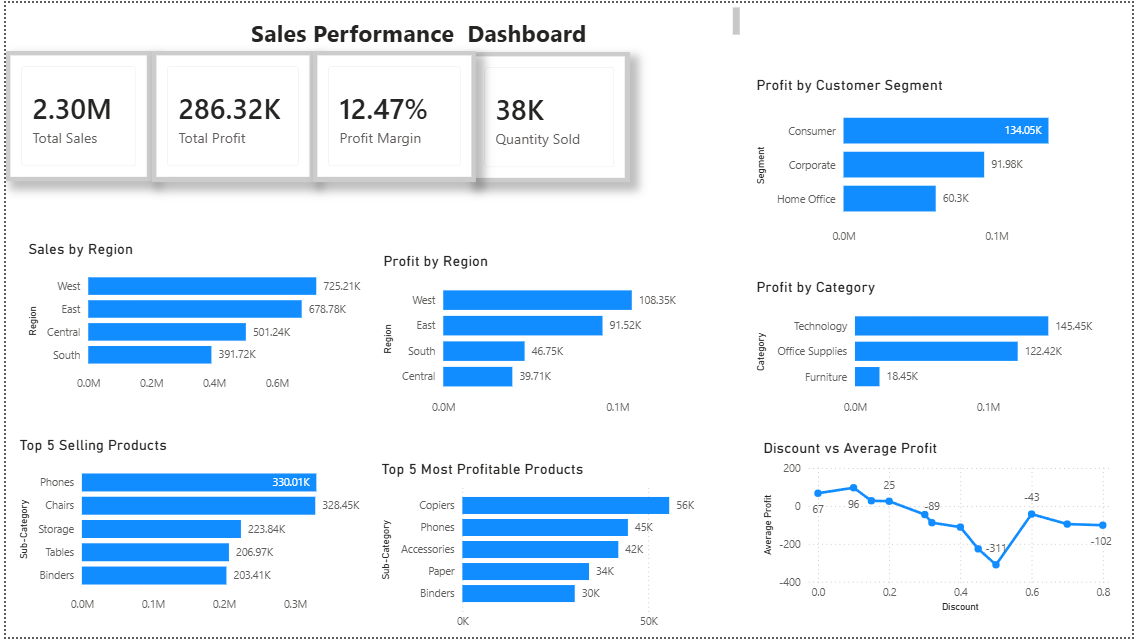

What the dashboard file says about the page in this screenshot:
{"tool":"powerbi","page":{"name":"Dashboard ","canvas":[1280,9999],"ordinal":0},"visuals":[{"type":"textbox","box":[273.9,18.2,564.8,54.5],"z":0},{"type":"cardVisual","title":"total sales","fields":{"Data":["SalesData.Measure TotalSales"]},"box":[118.2,101.1,165.9,156.8],"z":1000},{"type":"cardVisual","fields":{"Data":["SalesData.Measure Total Profit"]},"box":[284.1,101.1,184.1,156.8],"z":2000},{"type":"cardVisual","fields":{"Data":["SalesData.Measure Total Quantity"]},"box":[639.8,101.1,172.7,156.8],"z":3000},{"type":"cardVisual","fields":{"Data":["SalesData.Measure Profit Margin"]},"box":[468.2,101.1,176.1,156.8],"z":4000},{"type":"clusteredBarChart","title":"Sales by Region","fields":{"Y":["SalesData.Measure TotalSales"],"Category":["SalesData.Region"]},"box":[0,312.5,460.2,277.3],"z":5000},{"type":"clusteredBarChart","title":"Profit by Region","fields":{"Y":["SalesData.Measure Total Profit"],"Category":["SalesData.Region"]},"box":[468.2,320.5,436.4,287.5],"z":6000},{"type":"clusteredBarChart","title":"Top 5 Selling Products","fields":{"Category":["SalesData.Sub-Category"],"Y":["SalesData.Total Sales"]},"box":[0,608,468.2,283],"z":7000},{"type":"clusteredBarChart","title":"Top 5 Most Profitable Products ","fields":{"Category":["SalesData.Sub-Category"],"Y":["SalesData.Total Profit"]},"box":[468.2,608,436.4,283],"z":8000},{"type":"clusteredBarChart","title":"Profit by Customer Segment","fields":{"Category":["SalesData.Segment"],"Y":["SalesData.Total Profit"]},"box":[0,898.9,489.8,281.8],"z":8001},{"type":"clusteredBarChart","title":"Profit by Category","fields":{"Category":["SalesData.Category"],"Y":["SalesData.Total Profit"]},"box":[489.8,898.9,414.8,290.9],"z":8002},{"type":"lineChart","title":"Discount vs Average Profit ","fields":{"Category":["SalesData.Discount"],"Y":["SalesData.Average Profit"]},"box":[0,1189.8,489.8,263.6],"z":8003},{"type":"textbox","box":[0,1463.6,546.6,264.8],"z":8004}]}

Visuals, with their boxes on the page's 1280x9999 design canvas (x1, y1, x2, y2). These are canvas units, not pixel positions in the 1139x644 screenshot, which may show the page scaled, cropped or inside an application window:
textbox: 274:18:839:73
"total sales" cardVisual: 118:101:284:258
cardVisual - SalesData.Measure Total Profit: 284:101:468:258
cardVisual - SalesData.Measure Total Quantity: 640:101:812:258
cardVisual - SalesData.Measure Profit Margin: 468:101:644:258
"Sales by Region" clusteredBarChart: 0:312:460:590
"Profit by Region" clusteredBarChart: 468:320:905:608
"Top 5 Selling Products" clusteredBarChart: 0:608:468:891
"Top 5 Most Profitable Products " clusteredBarChart: 468:608:905:891
"Profit by Customer Segment" clusteredBarChart: 0:899:490:1181
"Profit by Category" clusteredBarChart: 490:899:905:1190
"Discount vs Average Profit " lineChart: 0:1190:490:1453
textbox: 0:1464:547:1728
